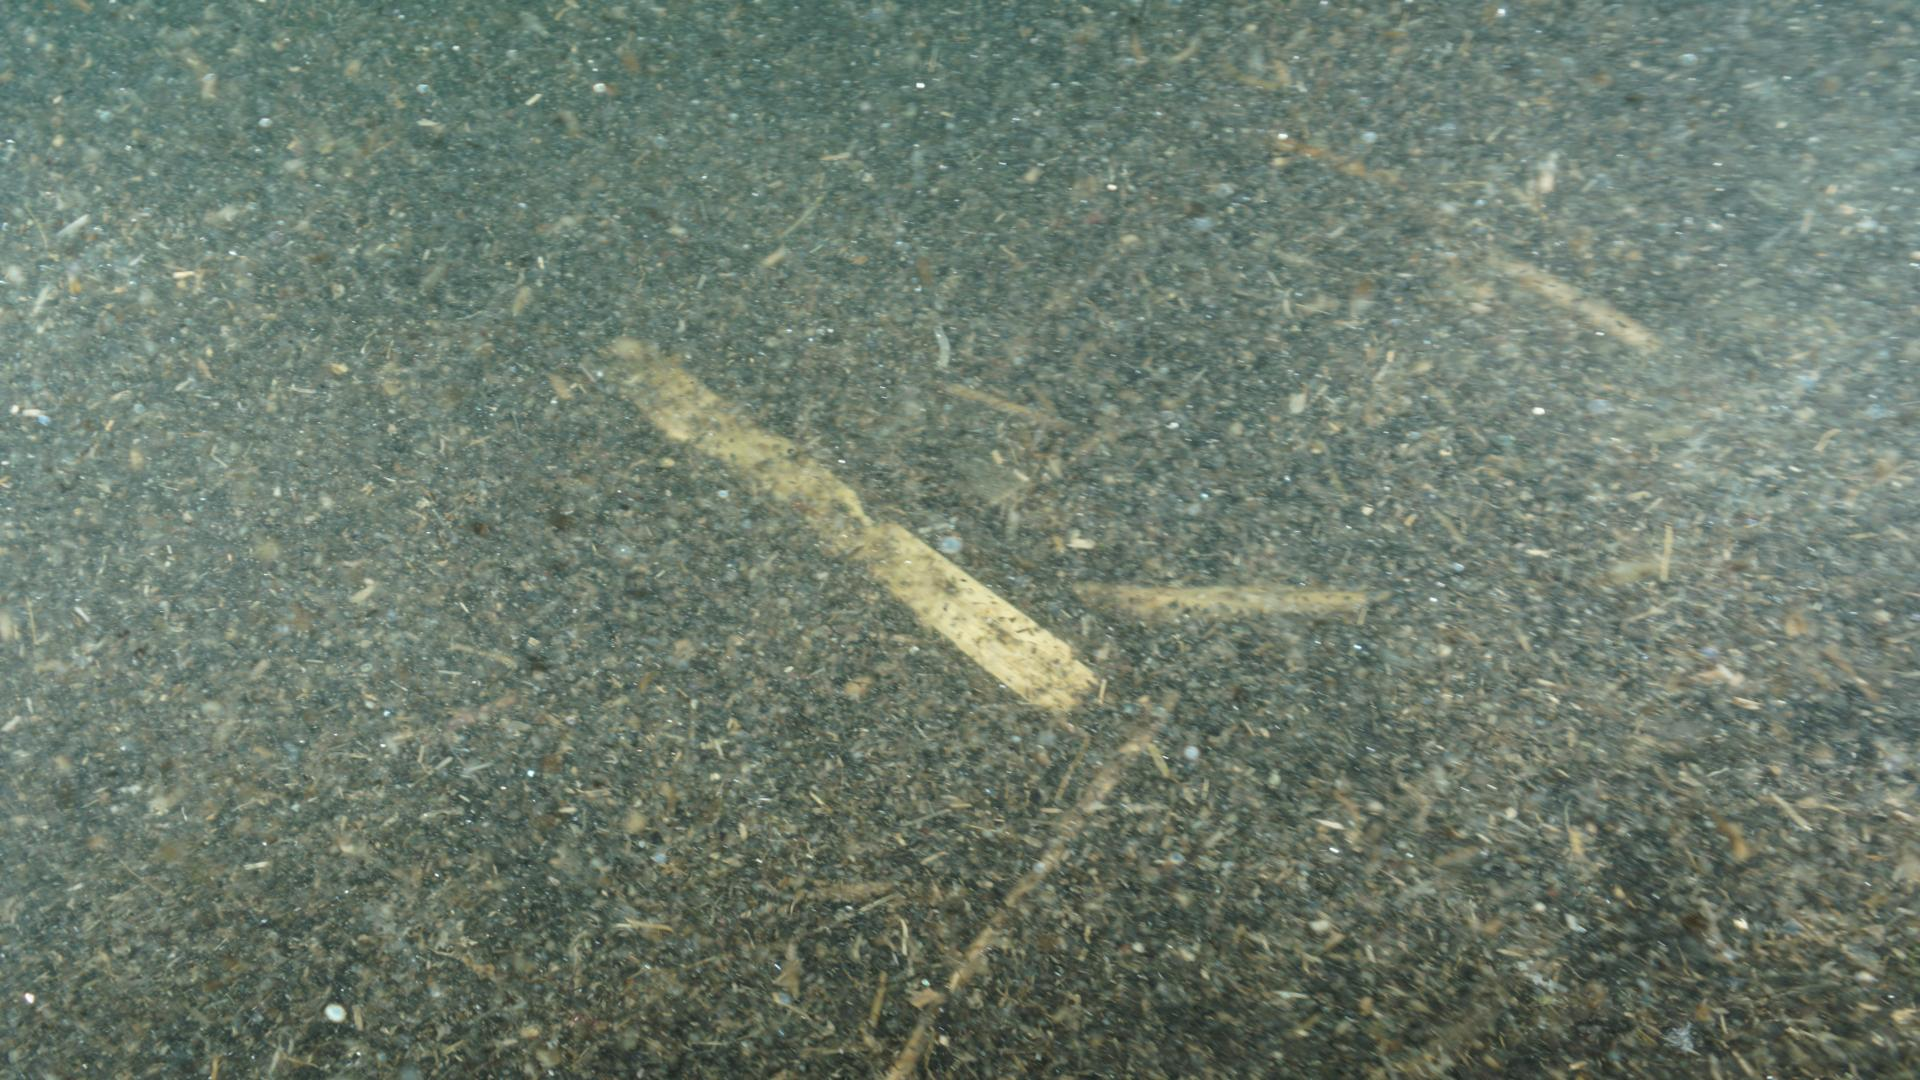wood: (596, 334, 1098, 716)
